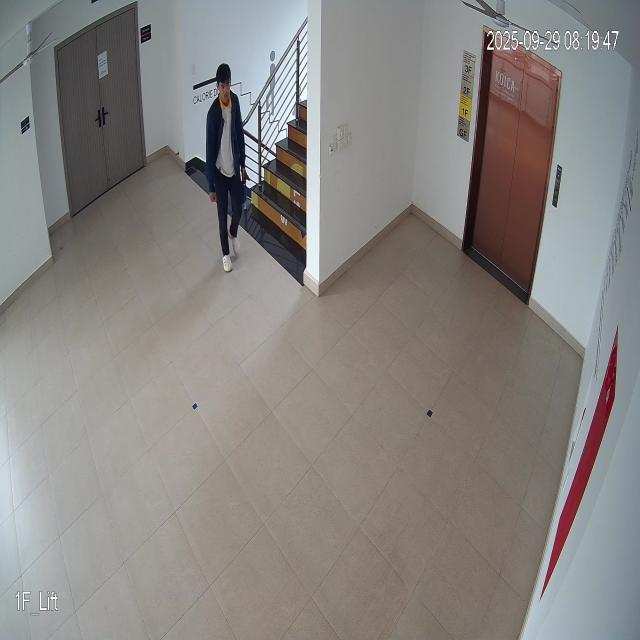face: (215, 64, 236, 111)
